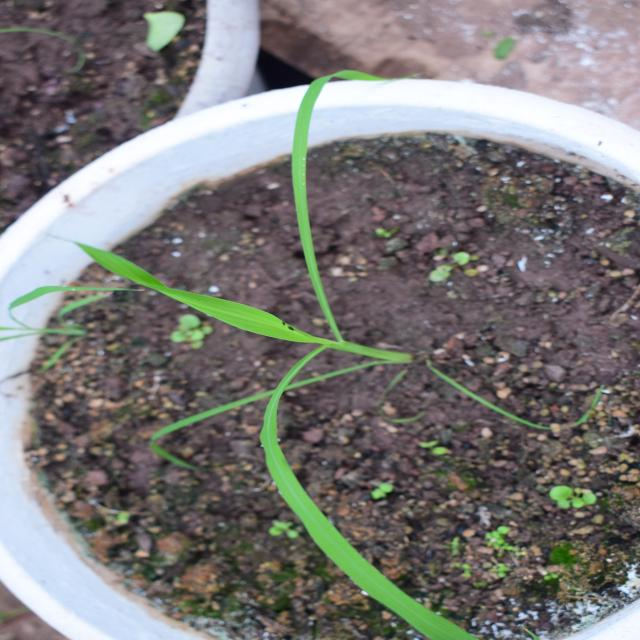barnyard_grass: (28, 110, 584, 463)
